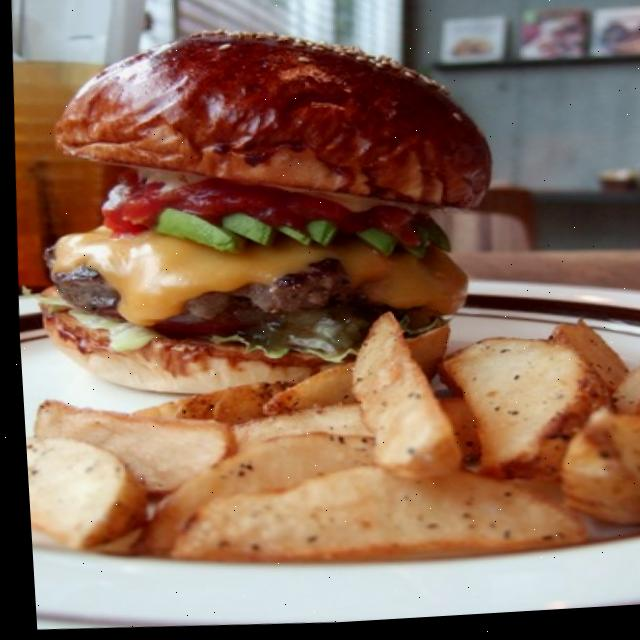汉堡快餐: (1, 7, 513, 417)
